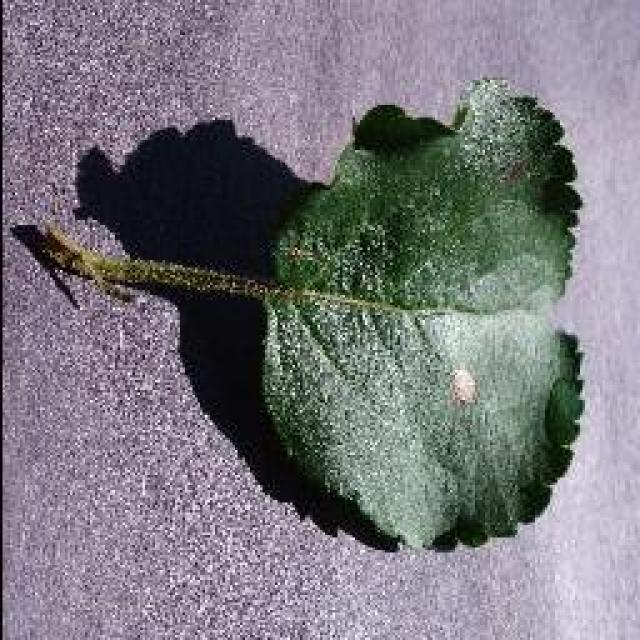Black_rot: (12, 75, 588, 550)
